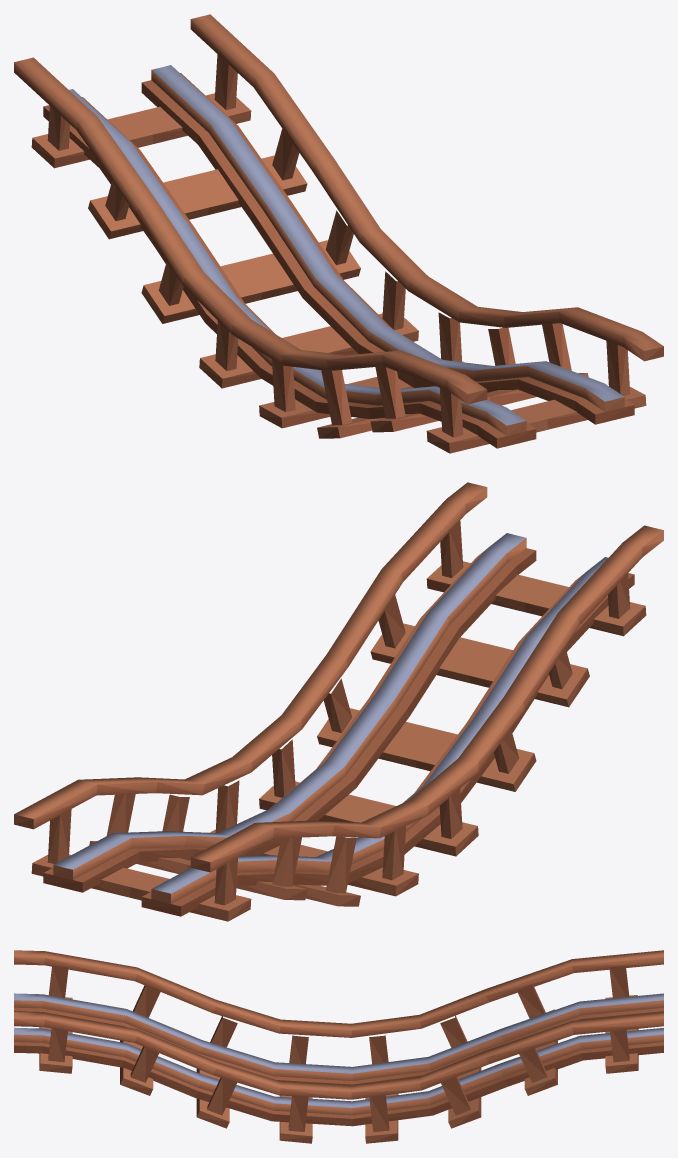
The model's file is coaster_coaster_wood_straight_bump_down.glb.
3 views of the same model, one above another, from view 1: azimuth 30°, elevation 25°; view 2: azimuth 150°, elevation 25°; view 3: azimuth 270°, elevation 25° (orthographic). The views are drawn at different scales.
Parts seen in each view (by area): view 1: coaster_coaster_wood_straight_bump_down; view 2: coaster_coaster_wood_straight_bump_down; view 3: coaster_coaster_wood_straight_bump_down.
Boxes of the visible parts, x1=… form: coaster_coaster_wood_straight_bump_down: x1=14, y1=14, x2=663, y2=453; coaster_coaster_wood_straight_bump_down: x1=14, y1=482, x2=663, y2=921; coaster_coaster_wood_straight_bump_down: x1=14, y1=950, x2=663, y2=1143.
Size of the model in its own units: 1 by 0.8473 by 4.
